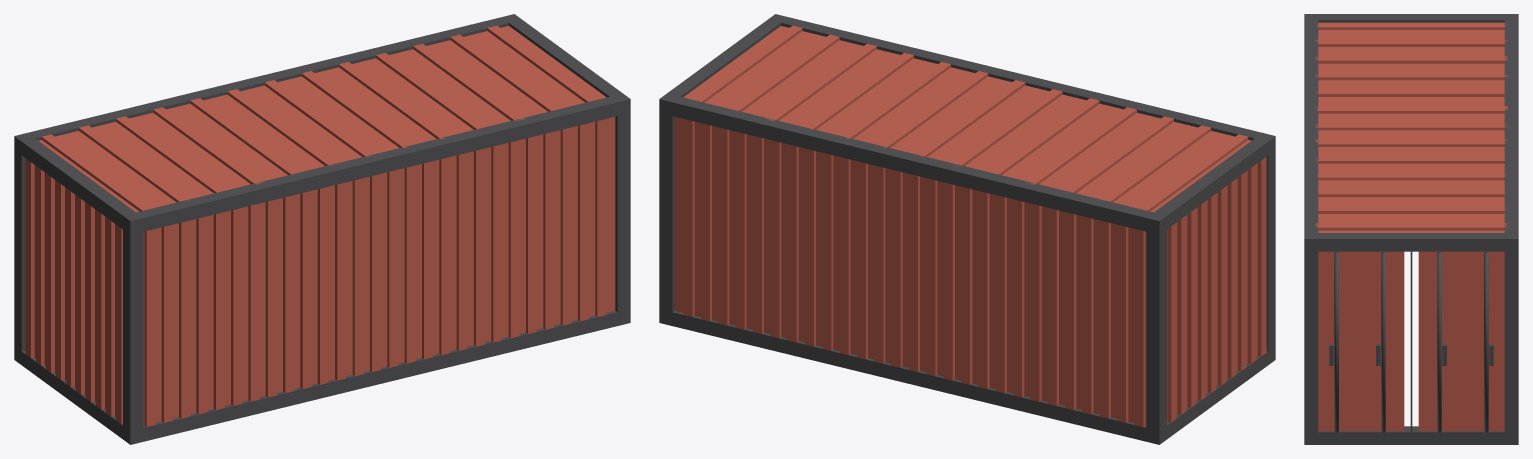
Rendered from container_red.glb.
The picture shows the model from 3 angles, left to right: view 1: azimuth 30°, elevation 25°; view 2: azimuth 150°, elevation 25°; view 3: azimuth 270°, elevation 25°; orthographic projection. The views are drawn at different scales.
Visible parts, largest first — view 1: Container; view 2: Container; view 3: Container.
Boxes of the visible parts, <box> form: Container: <box>14,14,630,444</box>; Container: <box>659,14,1275,444</box>; Container: <box>1304,14,1518,444</box>.
Size of the model in its own units: 6.12 by 2.59 by 2.44.
